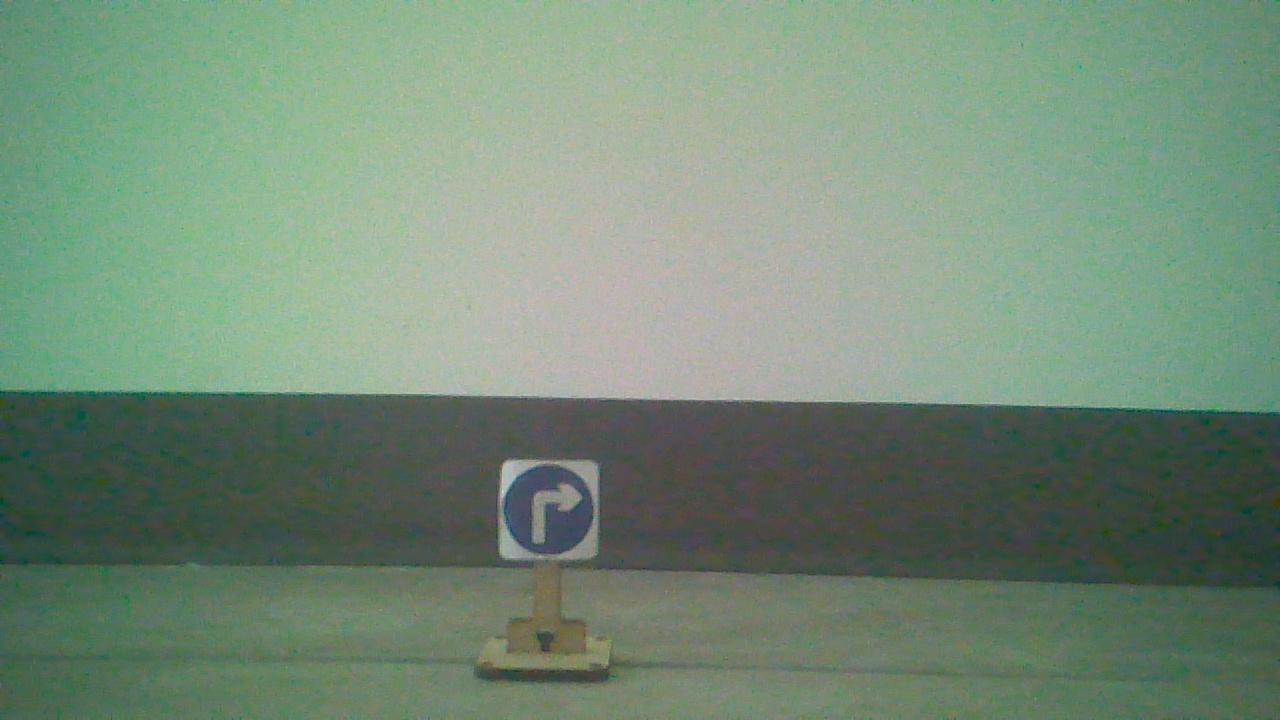turn: (497, 461, 602, 561)
